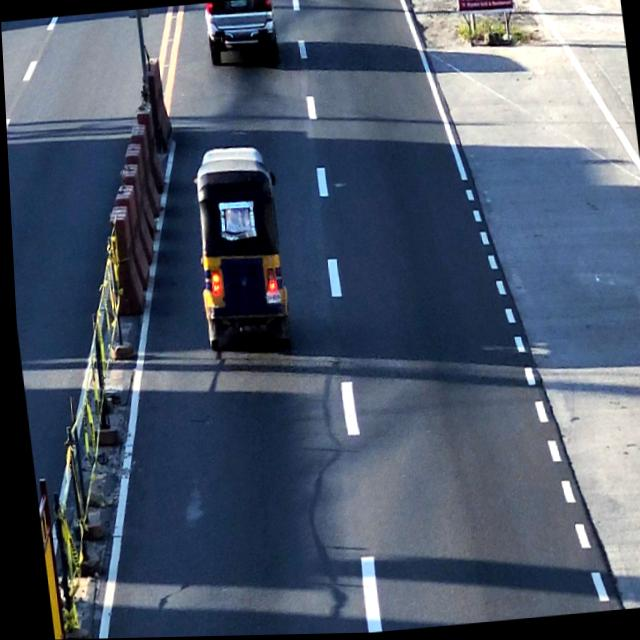License-Plate: (228, 0, 248, 9)
